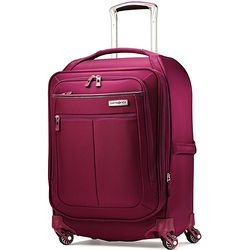luggage: (45, 0, 205, 250)
